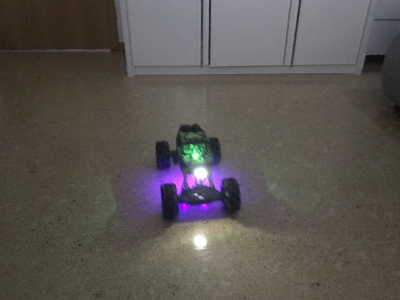remote control car: (151, 122, 242, 222)
